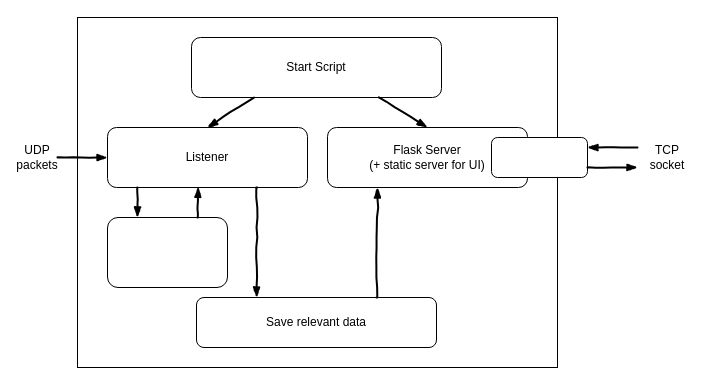
Image size: 715x385. Some labels were removed from this diagram. Each missing label, with the box of its shape:
Parse UDP packets (f1-2019-telemetry): (106, 216, 228, 288)
WSGI: (490, 136, 588, 178)
